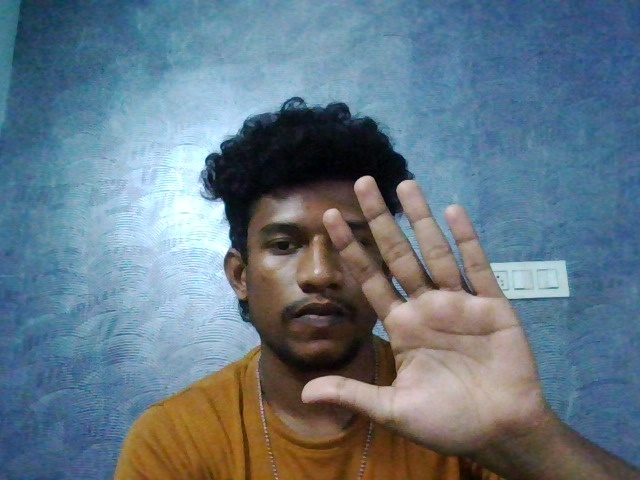hello: (303, 168, 583, 448)
